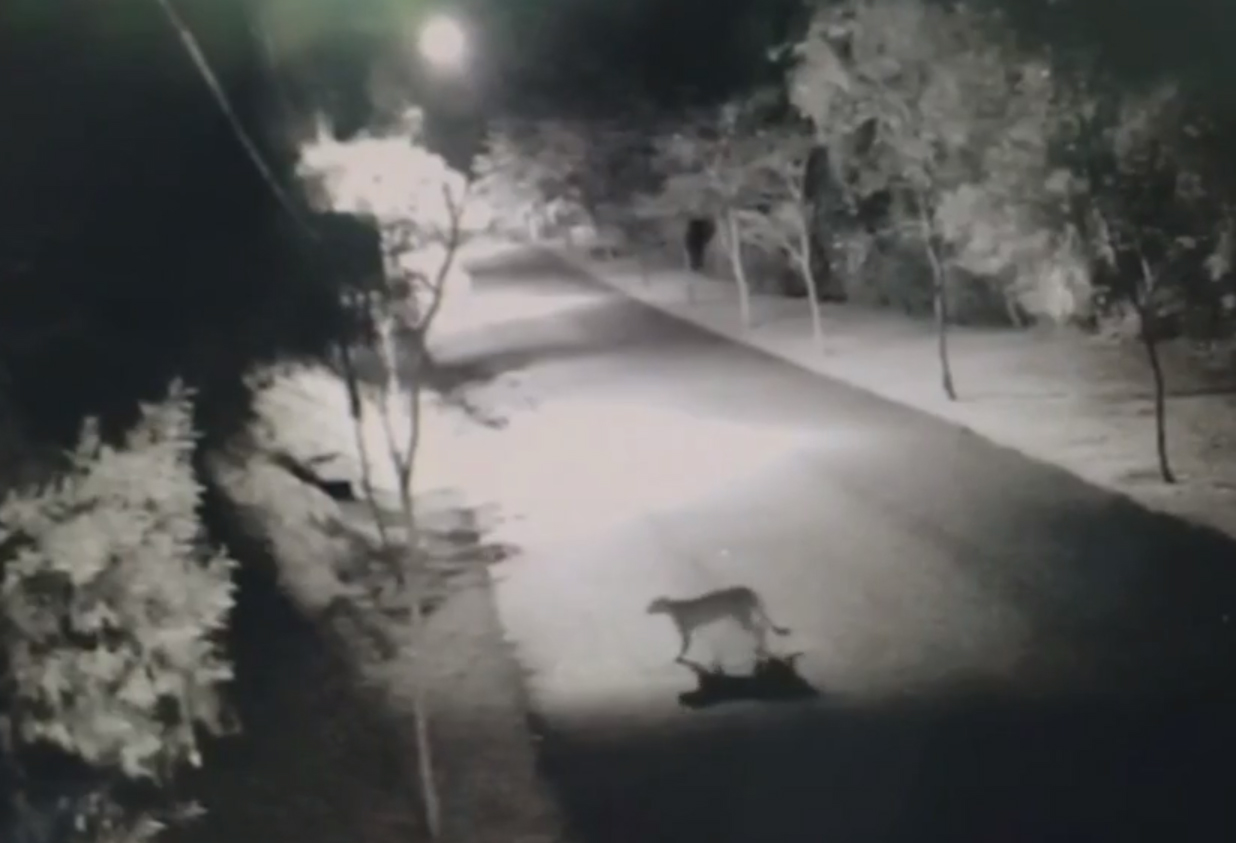OncaParda: (628, 579, 812, 670)
